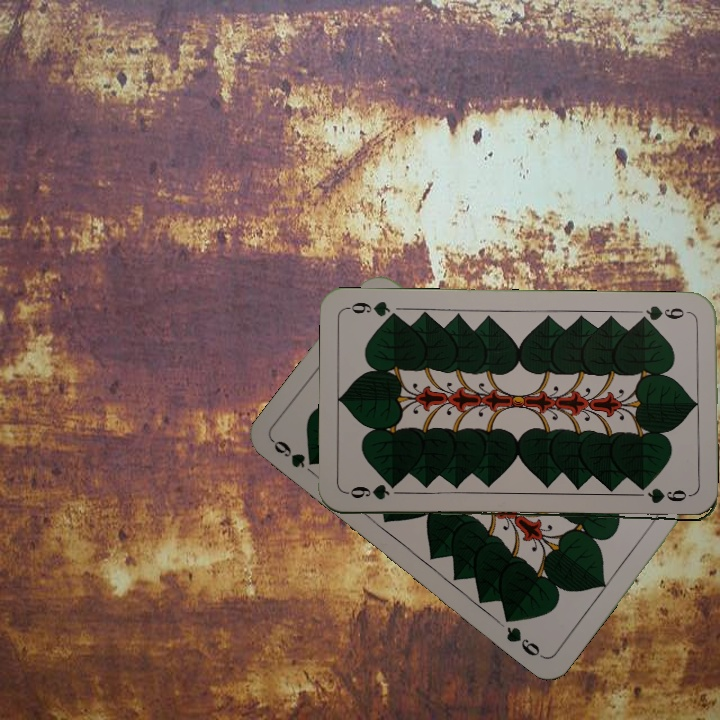G9: (635, 301, 694, 325), (269, 436, 308, 471), (342, 481, 392, 502)
